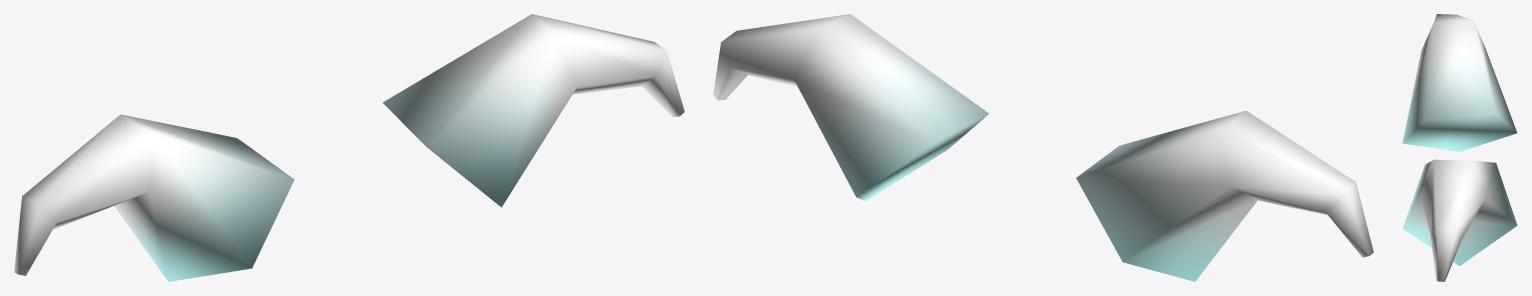
Rendered from horn3.glb.
3 renders of one model, left to right at view 1: azimuth 30°, elevation 25°; view 2: azimuth 150°, elevation 25°; view 3: azimuth 270°, elevation 25°, orthographic. The views are drawn at different scales.
Visible parts, largest first — view 1: Horns.002; view 2: Horns.002; view 3: Horns.002.
Boxes of the visible parts, box(x1,y1,x2,y2) form: Horns.002: box(14, 14, 684, 281); Horns.002: box(713, 14, 1373, 281); Horns.002: box(1402, 14, 1517, 281).
Bounding box in the file's own units: 3.15 × 0.766 × 0.6727.
1 material, 1 textured.
